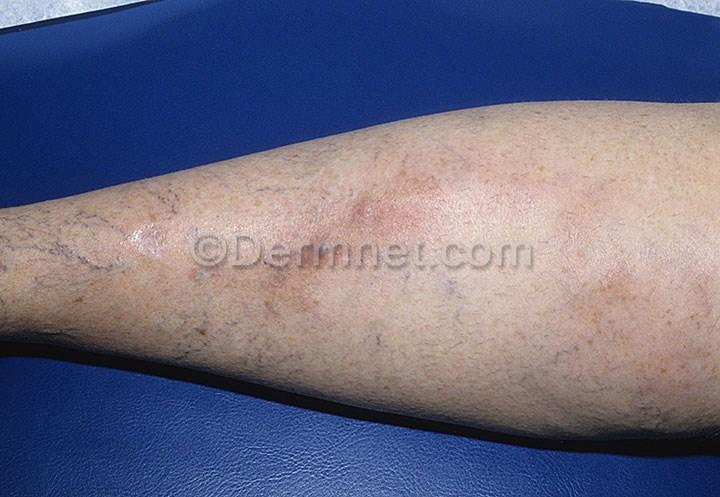Eczema: (658, 340, 720, 428), (376, 152, 470, 209), (121, 205, 188, 268), (599, 347, 658, 413), (217, 245, 270, 313), (285, 210, 344, 271), (556, 171, 619, 225), (451, 138, 506, 198), (268, 273, 338, 318), (567, 250, 619, 305), (394, 202, 447, 255), (341, 178, 391, 232), (598, 286, 647, 337), (248, 208, 296, 260), (642, 267, 692, 312), (647, 312, 690, 361), (349, 229, 388, 279), (522, 165, 570, 204), (684, 285, 720, 333)
